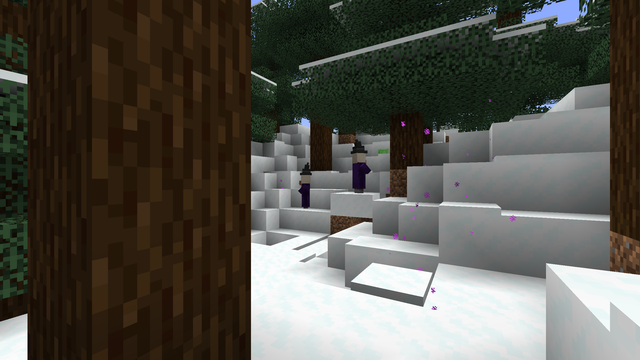slimes: (377, 148, 387, 155)
sorcieres: (350, 151, 366, 193), (298, 173, 313, 210)
